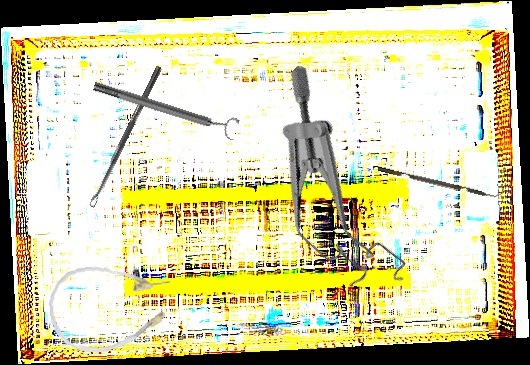Cannula: (45, 258, 177, 358)
Chopper: (377, 160, 503, 202)
Fixation Ring: (90, 73, 241, 143)
Speculum: (210, 61, 465, 312)
Surgical Spoon: (87, 64, 163, 209)
